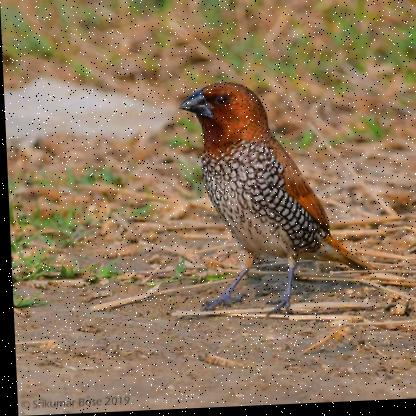Burung: (176, 79, 371, 326)
